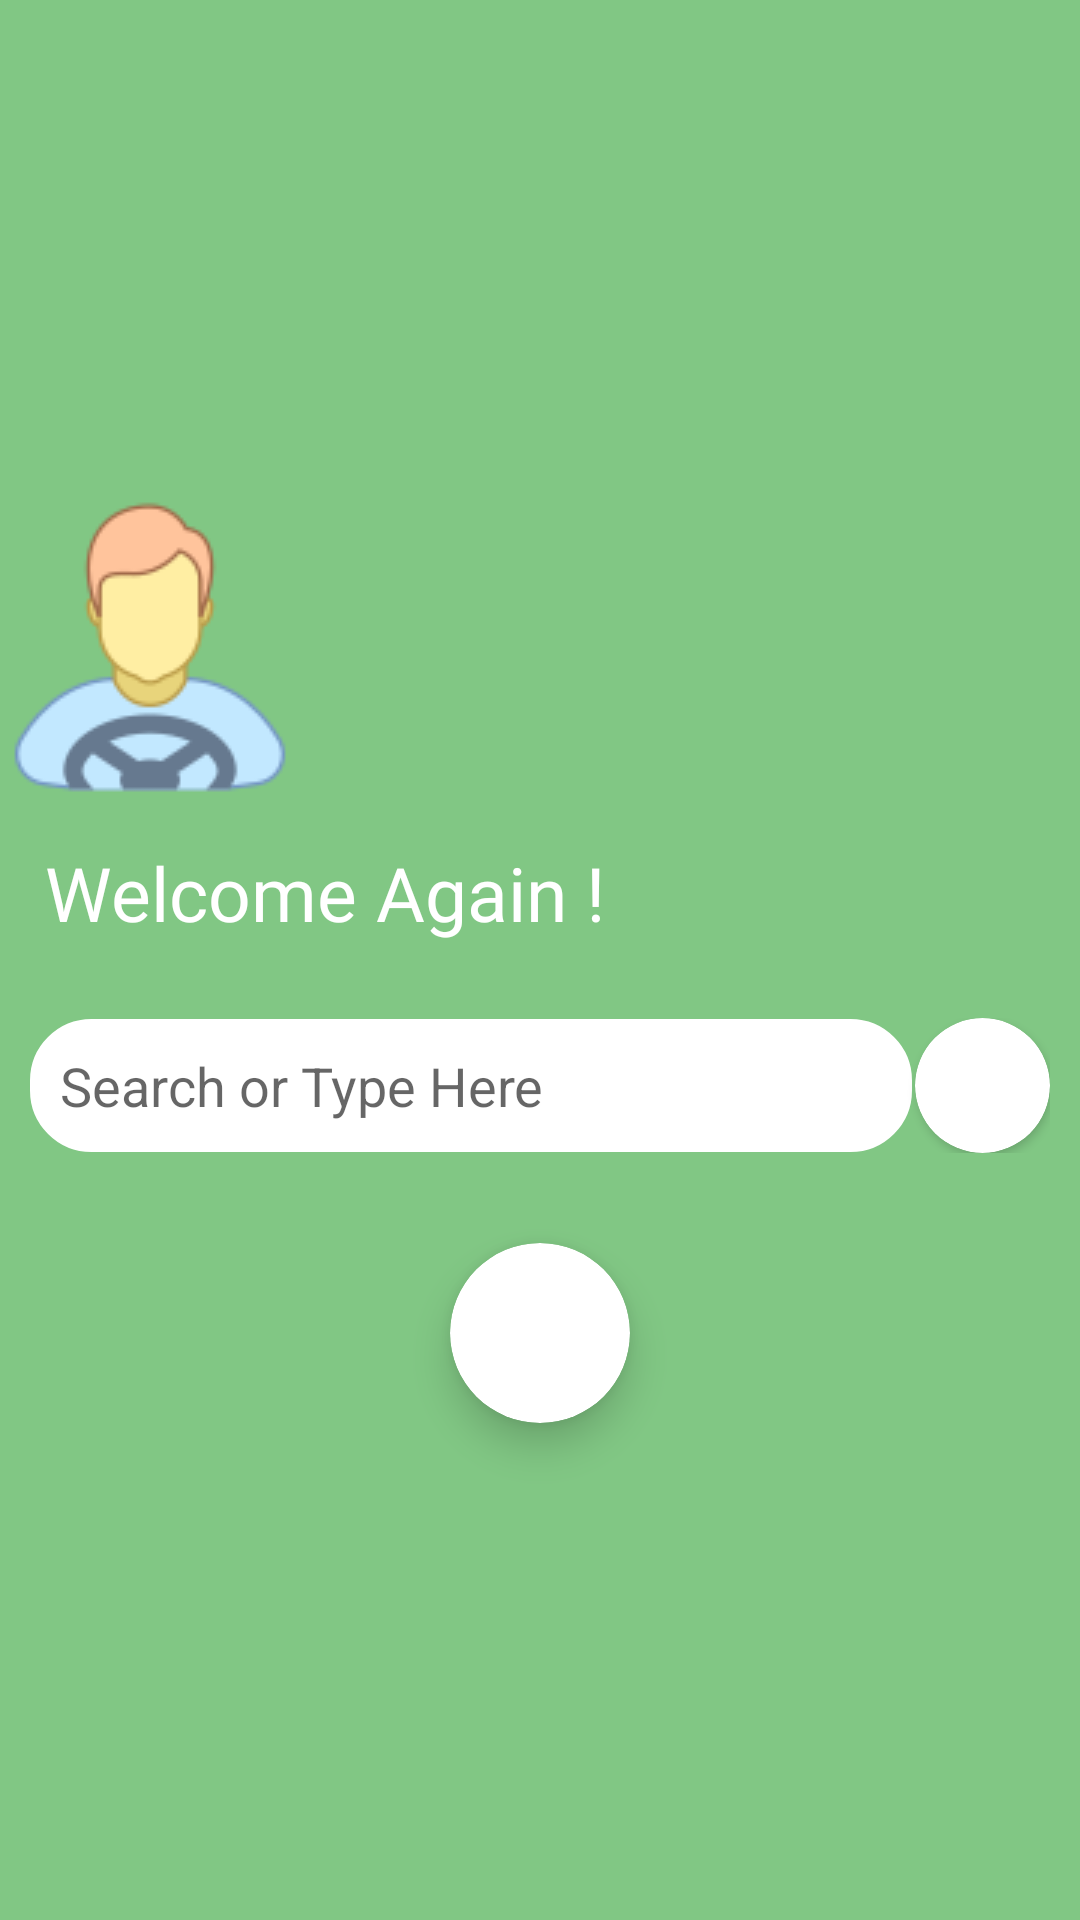

Screen size 1080*1920. Icon name, then its center in pixels as [x,y]:
driver: [150,647]
